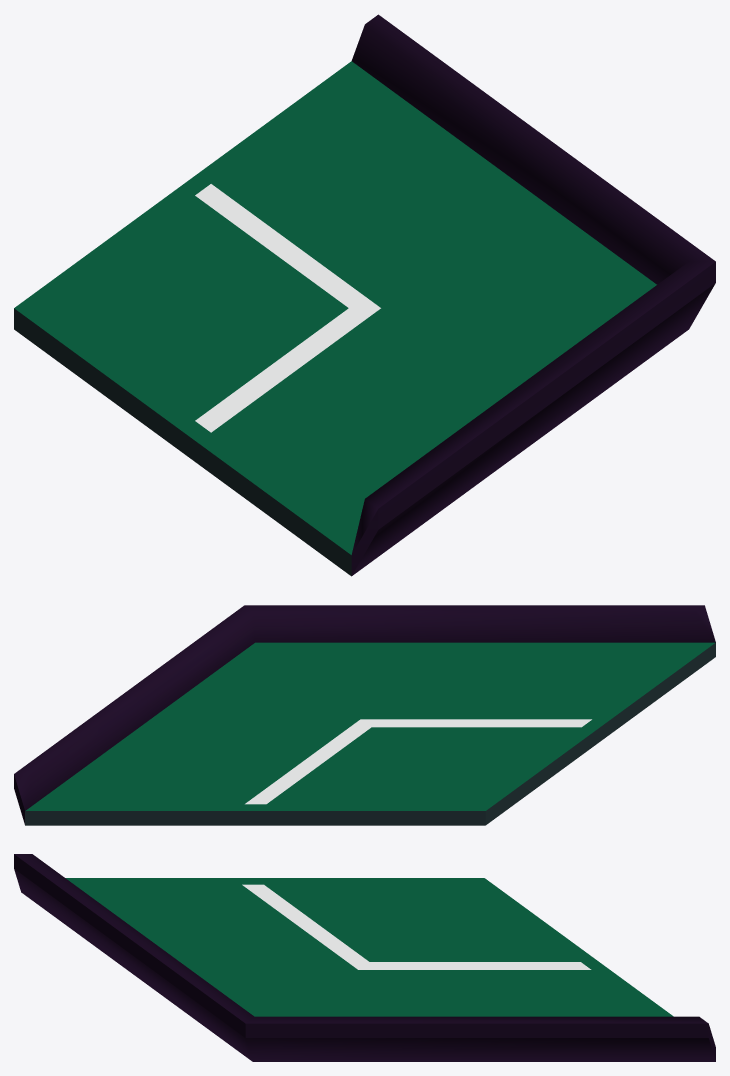
The model's file is left_sharp2.fbx.
The picture shows the model from 3 angles, top to bottom: view 1: azimuth 30°, elevation 25°; view 2: azimuth 150°, elevation 25°; view 3: azimuth 270°, elevation 25°; orthographic projection. The views are drawn at different scales.
Parts seen in each view (by area): view 1: left_sharp2; view 2: left_sharp2; view 3: left_sharp2.
Boxes of the visible parts, bbox=[...] form: left_sharp2: bbox=[14, 14, 715, 576]; left_sharp2: bbox=[14, 605, 715, 825]; left_sharp2: bbox=[14, 854, 715, 1061].
Bounding box in the file's own units: 26.07 × 3.13 × 43.76.
1 material, 1 textured.
